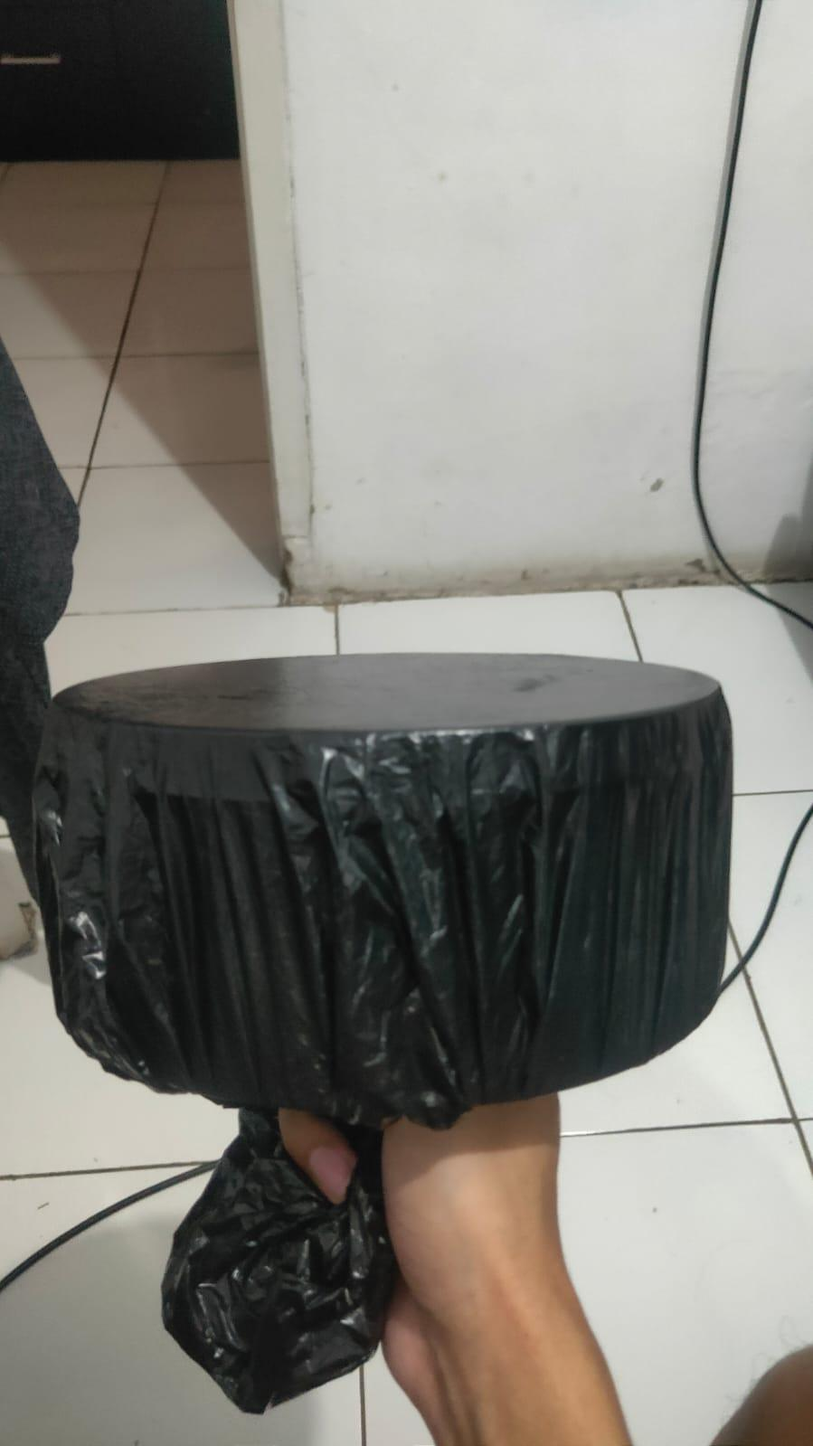undamaged: (9, 636, 747, 1135)
